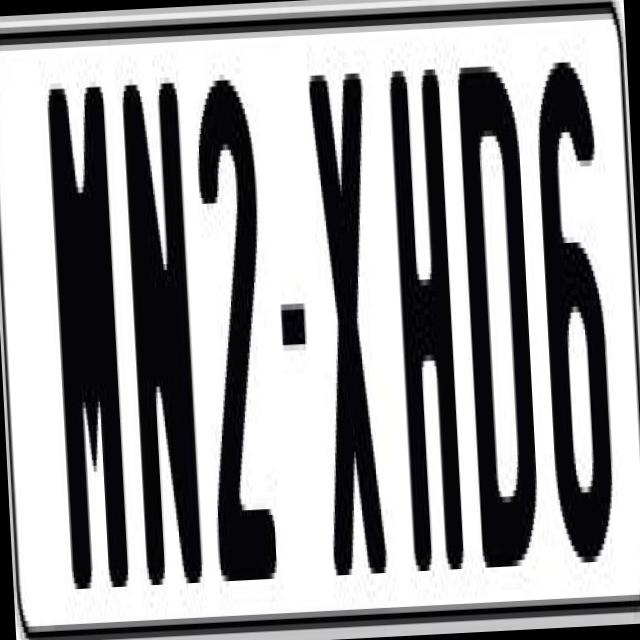2: (190, 66, 282, 600)
6: (528, 44, 616, 558)
D: (452, 52, 544, 556)
H: (387, 69, 472, 572)
M: (41, 70, 126, 608)
N: (120, 83, 202, 597)
X: (304, 68, 384, 588)
